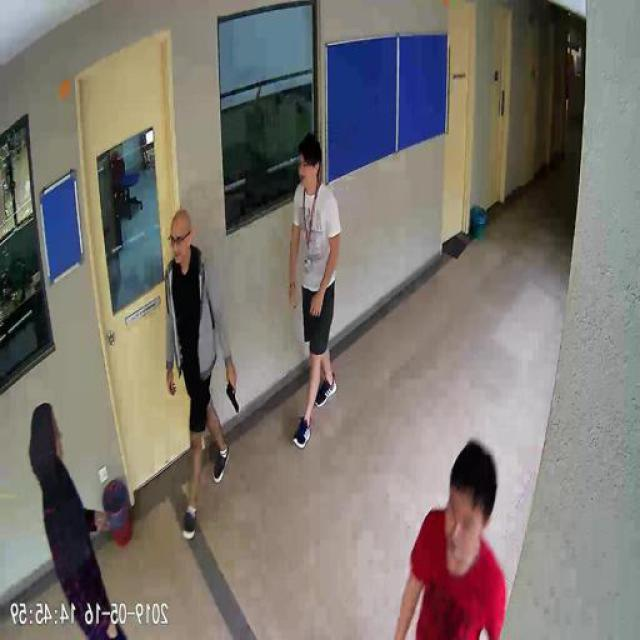weapon: (223, 372, 241, 413)
